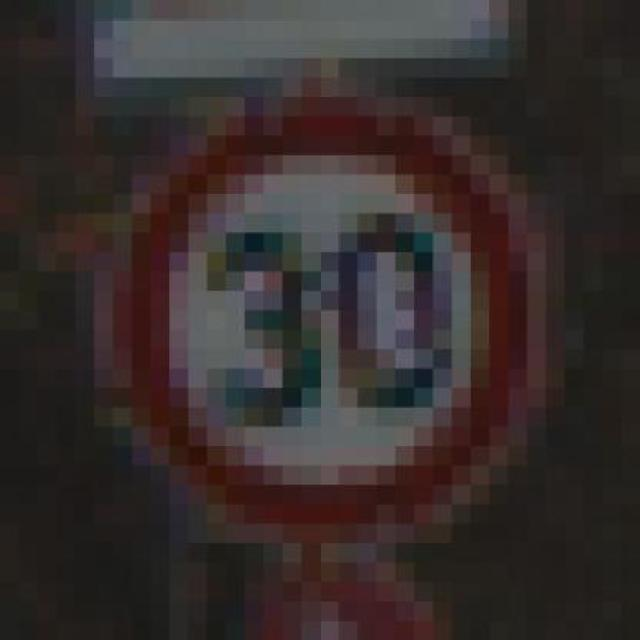Speed Limit 30 KMPh: (38, 58, 602, 582)
